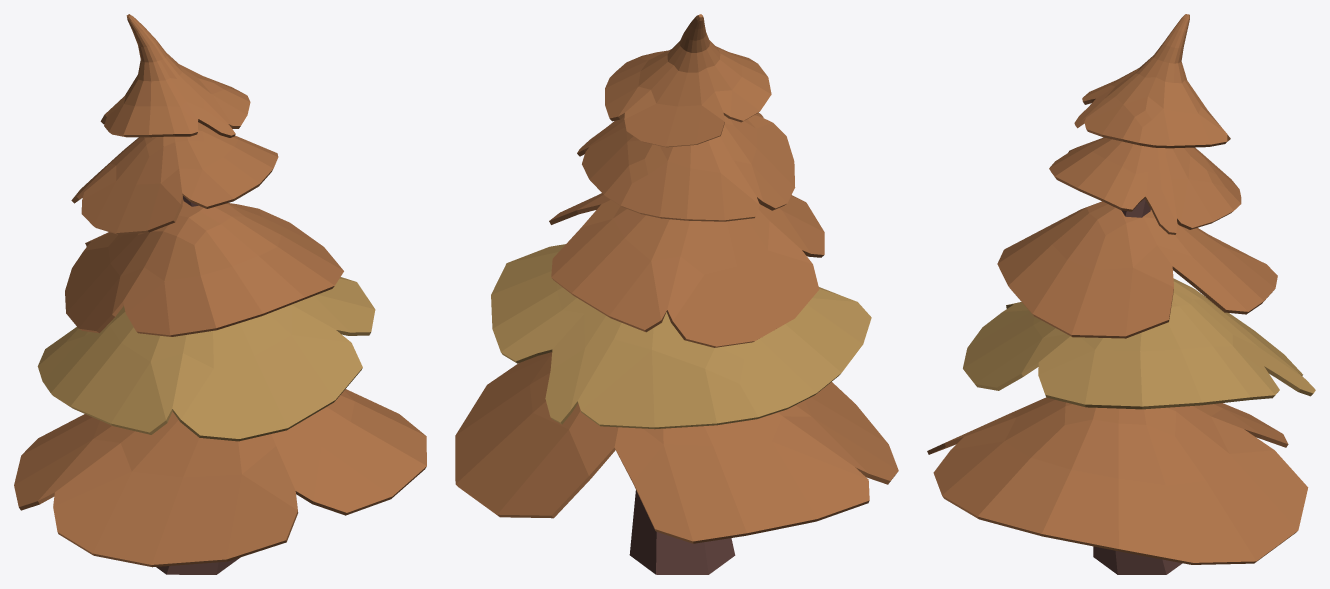
File: PineTree_Autumn_1.gltf
The picture shows the model from 3 angles, left to right: view 1: azimuth 30°, elevation 25°; view 2: azimuth 150°, elevation 25°; view 3: azimuth 270°, elevation 25°; orthographic projection. The views are drawn at different scales.
Parts seen in each view (by area): view 1: PineTree_Autumn_1; view 2: PineTree_Autumn_1; view 3: PineTree_Autumn_1.
Part boxes in pixels (x1,y1,x2,y2): PineTree_Autumn_1: (14, 14, 426, 574); PineTree_Autumn_1: (455, 14, 898, 574); PineTree_Autumn_1: (927, 14, 1315, 574).
Bounding box in the file's own units: 1.96 × 2.7 × 1.82.
